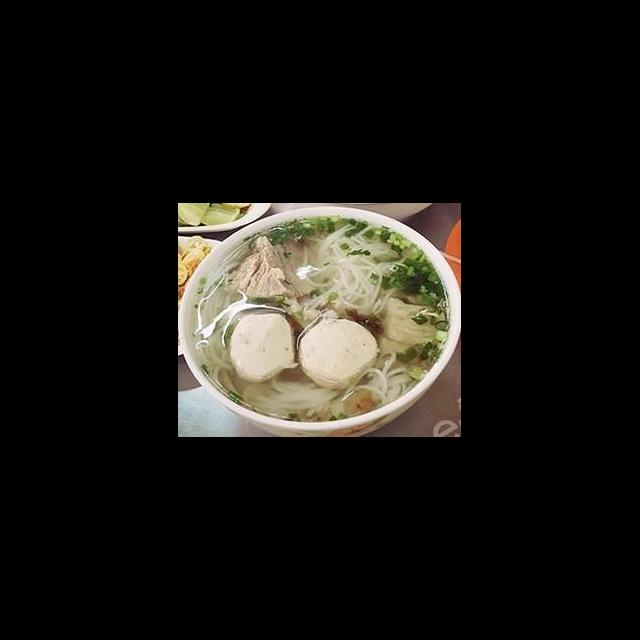bun: (300, 224, 400, 316), (253, 366, 404, 421)
thit heo: (376, 293, 438, 371), (220, 248, 294, 304)
